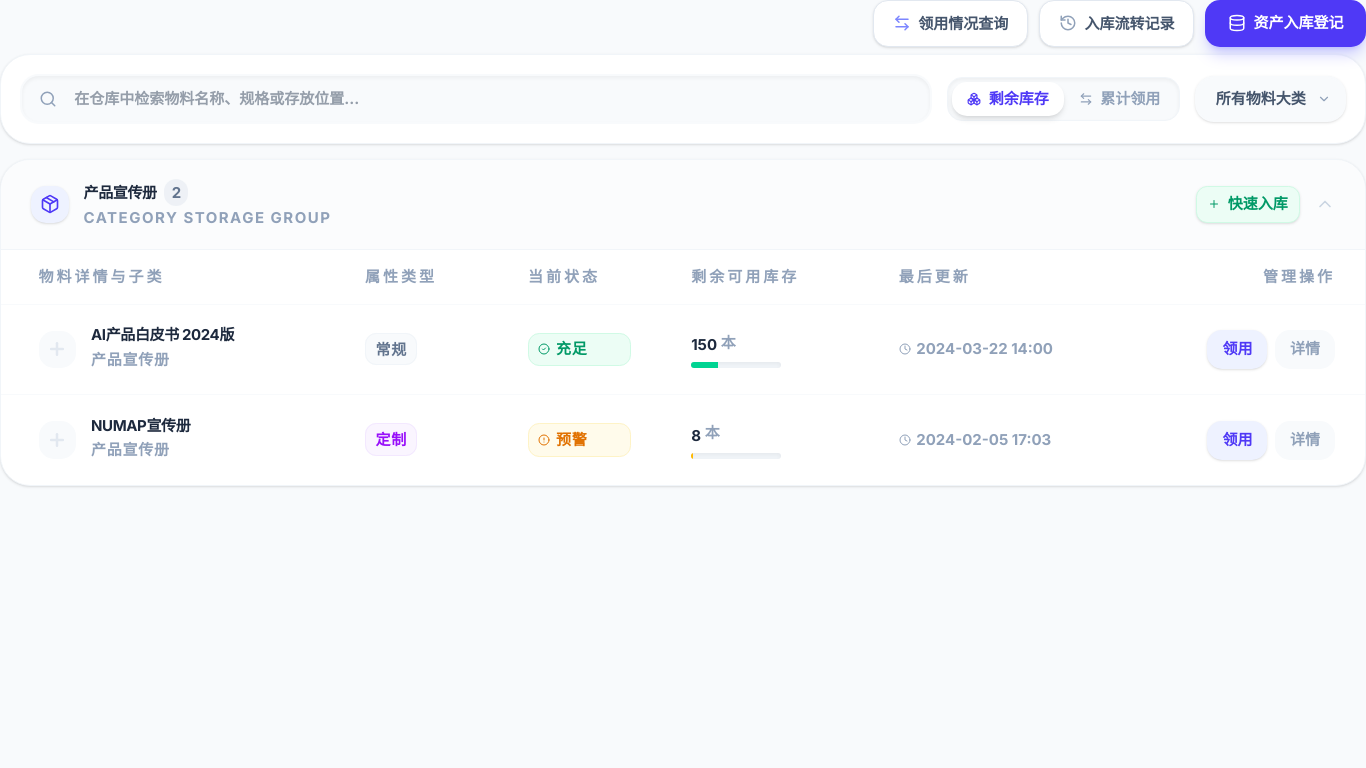
Scenario: 物料管理页面交互测试 › 顶部操作按钮交互 › 点击入库流转记录应打开弹窗
Click the button "入库流转记录" at (1117, 23), box [1039,0,1194,46]
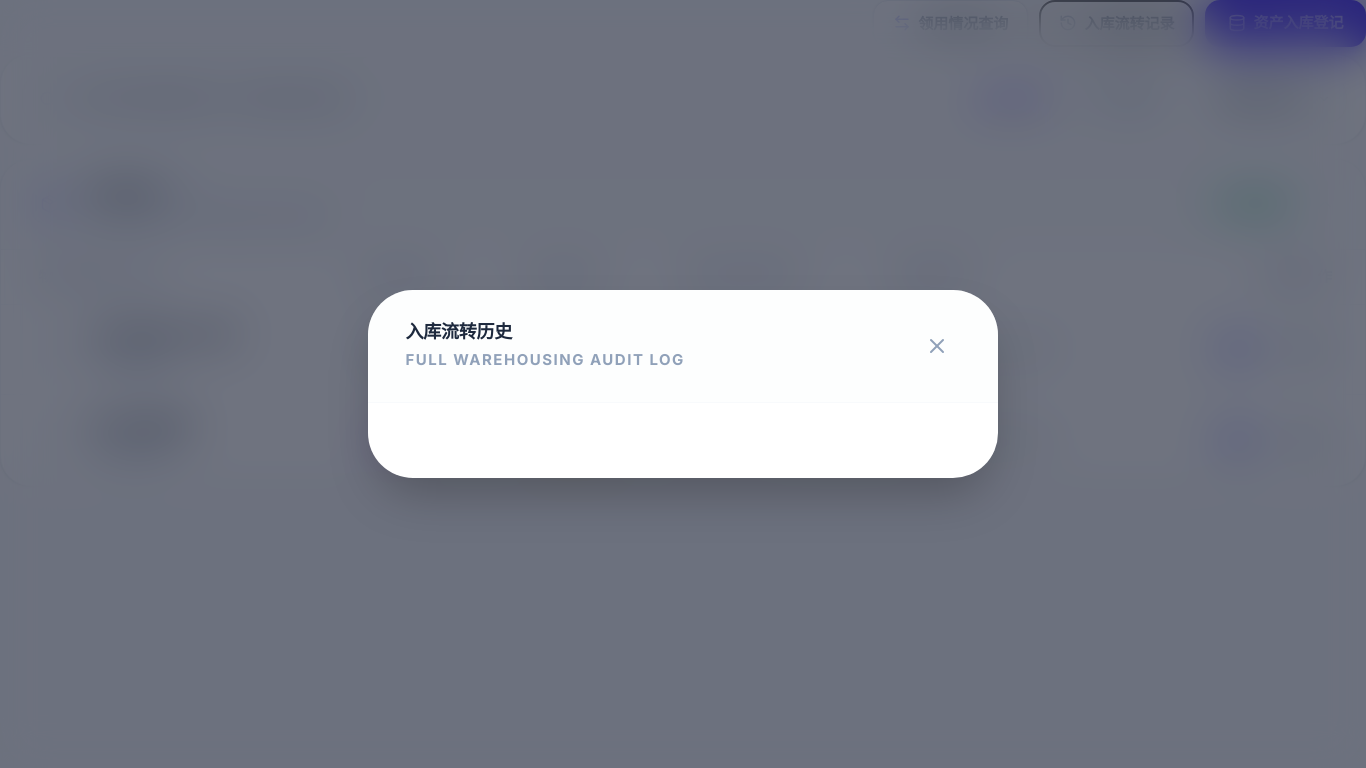
Now the heading "入库流转历史" is shown, box [406,321,512,342]
